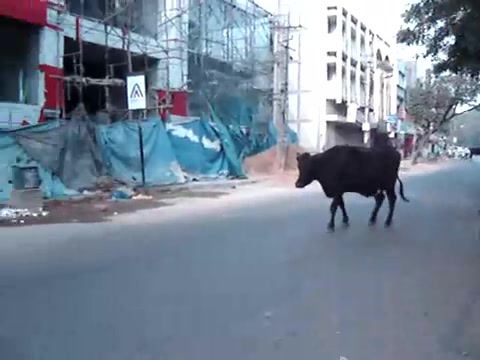cow: (296, 144, 412, 231)
